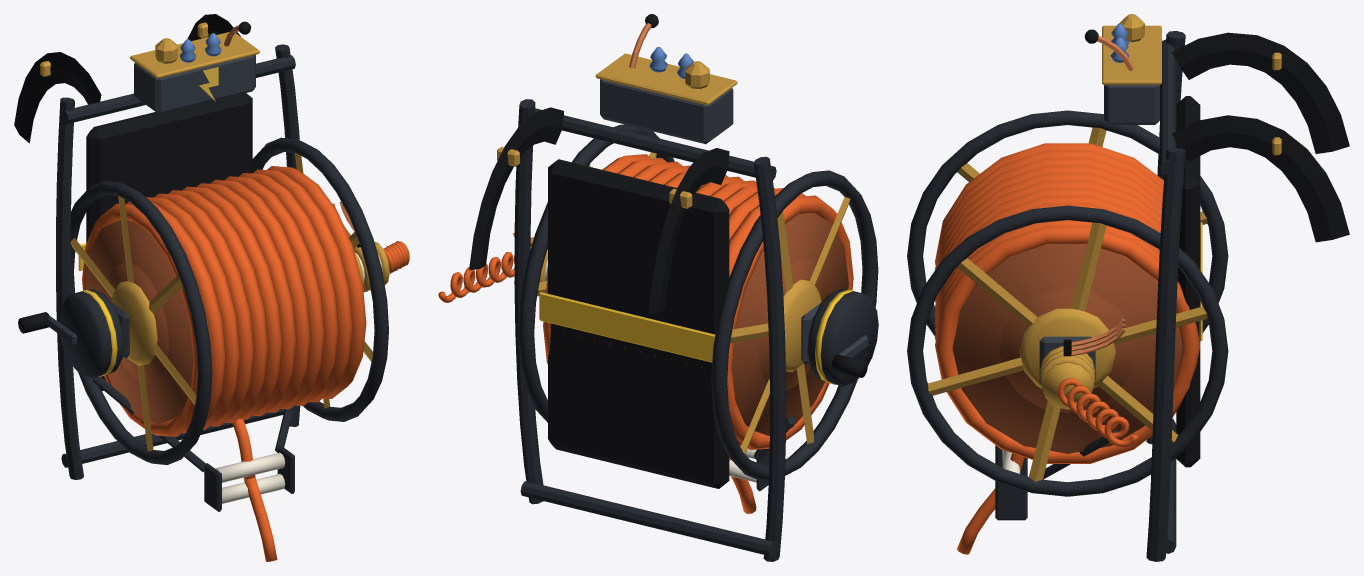
Rendered from reel_pack.glb.
The picture shows the model from 3 angles, left to right: view 1: azimuth 30°, elevation 25°; view 2: azimuth 150°, elevation 25°; view 3: azimuth 270°, elevation 25°; orthographic projection. The views are drawn at different scales.
Visible parts, largest first — view 1: Reel_Cable, ReelPack_Rubber, ReelPack_Steel, Reel_Steel, Reel_DarkCopper, Reel_Brass, ReelPack_PlateSteel, ReelPack_Brass, ReelPack_Cable, ReelPack_Ceramic, ReelPack_Hazard, ReelPack_CeramicBlue (+1 smaller); view 2: ReelPack_Rubber, ReelPack_Steel, Reel_Steel, Reel_DarkCopper, Reel_Cable, ReelPack_Hazard, ReelPack_PlateSteel, Reel_Brass, ReelPack_Brass, ReelPack_Cable, Crank_Knob, ReelPack_CeramicBlue; view 3: Reel_Cable, Reel_DarkCopper, Reel_Steel, ReelPack_Rubber, ReelPack_Steel, Reel_Brass, ReelPack_Brass, ReelPack_Cable, ReelPack_PlateSteel, ReelPack_Copper.
Boxes of the visible parts, x1=… form: Reel_Cable: x1=82, y1=166, x2=366, y2=436; ReelPack_Rubber: x1=14, y1=14, x2=252, y2=390; ReelPack_Steel: x1=56, y1=44, x2=300, y2=511; Reel_Steel: x1=70, y1=137, x2=388, y2=464; Reel_DarkCopper: x1=86, y1=220, x2=193, y2=424; Reel_Brass: x1=70, y1=153, x2=372, y2=451; ReelPack_PlateSteel: x1=111, y1=54, x2=255, y2=358; ReelPack_Brass: x1=40, y1=22, x2=389, y2=292; ReelPack_Cable: x1=232, y1=241, x2=409, y2=561; ReelPack_Ceramic: x1=215, y1=252, x2=382, y2=503; ReelPack_Hazard: x1=78, y1=243, x2=117, y2=376; ReelPack_CeramicBlue: x1=179, y1=33, x2=221, y2=62; ReelPack_Rubber: x1=469, y1=14, x2=729, y2=488; ReelPack_Steel: x1=514, y1=99, x2=878, y2=561; Reel_Steel: x1=518, y1=124, x2=878, y2=480; Reel_DarkCopper: x1=732, y1=213, x2=848, y2=435; Reel_Cable: x1=543, y1=154, x2=853, y2=449; ReelPack_Hazard: x1=539, y1=289, x2=854, y2=384; ReelPack_PlateSteel: x1=600, y1=79, x2=821, y2=364; Reel_Brass: x1=537, y1=152, x2=850, y2=453; ReelPack_Brass: x1=497, y1=53, x2=737, y2=282; ReelPack_Cable: x1=438, y1=252, x2=756, y2=513; Crank_Knob: x1=831, y1=354, x2=867, y2=377; ReelPack_CeramicBlue: x1=649, y1=47, x2=693, y2=78; Reel_Cable: x1=935, y1=143, x2=1200, y2=463; Reel_DarkCopper: x1=952, y1=244, x2=1182, y2=453; Reel_Steel: x1=907, y1=110, x2=1228, y2=496; ReelPack_Rubber: x1=1084, y1=29, x2=1349, y2=467; ReelPack_Steel: x1=995, y1=31, x2=1185, y2=561; Reel_Brass: x1=928, y1=127, x2=1207, y2=481; ReelPack_Brass: x1=1040, y1=14, x2=1281, y2=409; ReelPack_Cable: x1=957, y1=378, x2=1138, y2=554; ReelPack_PlateSteel: x1=1039, y1=85, x2=1159, y2=383; ReelPack_Copper: x1=1071, y1=36, x2=1134, y2=356.
Bounding box in the file's own units: 0.6082 × 0.742 × 0.5513.
